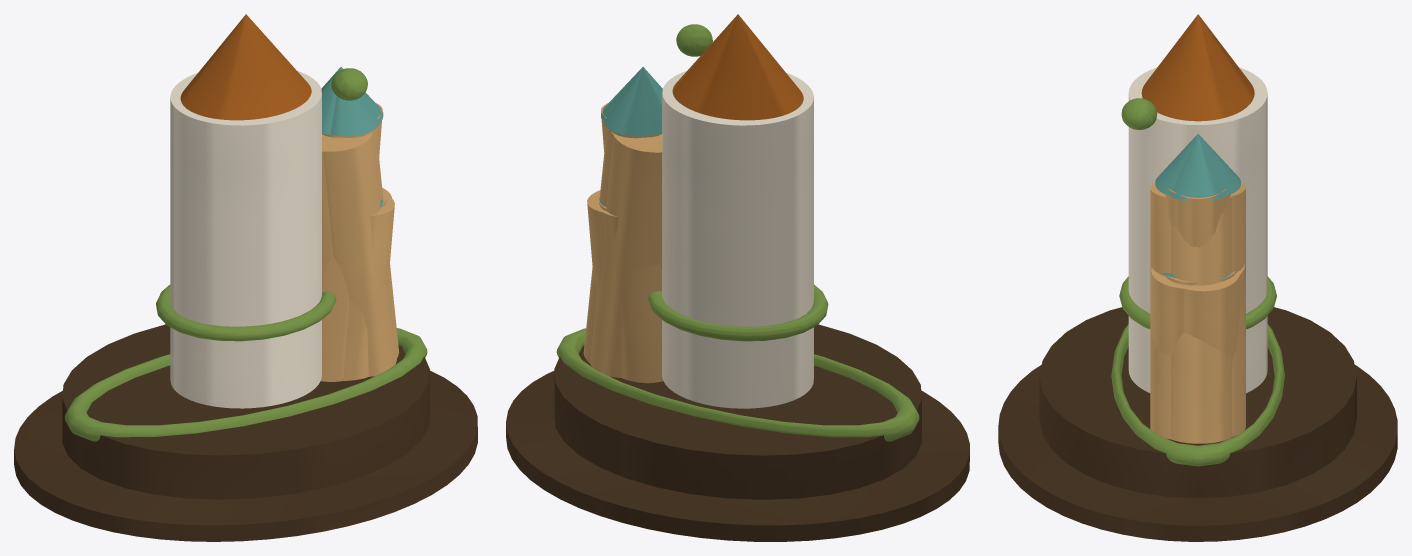
The model's file is 0538_岩石矿物图鉴_无烟煤.glb.
3 renders of one model, left to right at view 1: azimuth 30°, elevation 25°; view 2: azimuth 150°, elevation 25°; view 3: azimuth 270°, elevation 25°, orthographic. The views are drawn at different scales.
Parts seen in each view (by area): view 1: card_0538; view 2: card_0538; view 3: card_0538.
Part boxes in pixels (box(x1,y1,x2,y2)): card_0538: box(14, 14, 477, 541); card_0538: box(506, 14, 969, 541); card_0538: box(998, 14, 1397, 541).
Size of the model in its own units: 0.9959 by 1 by 0.8445.
